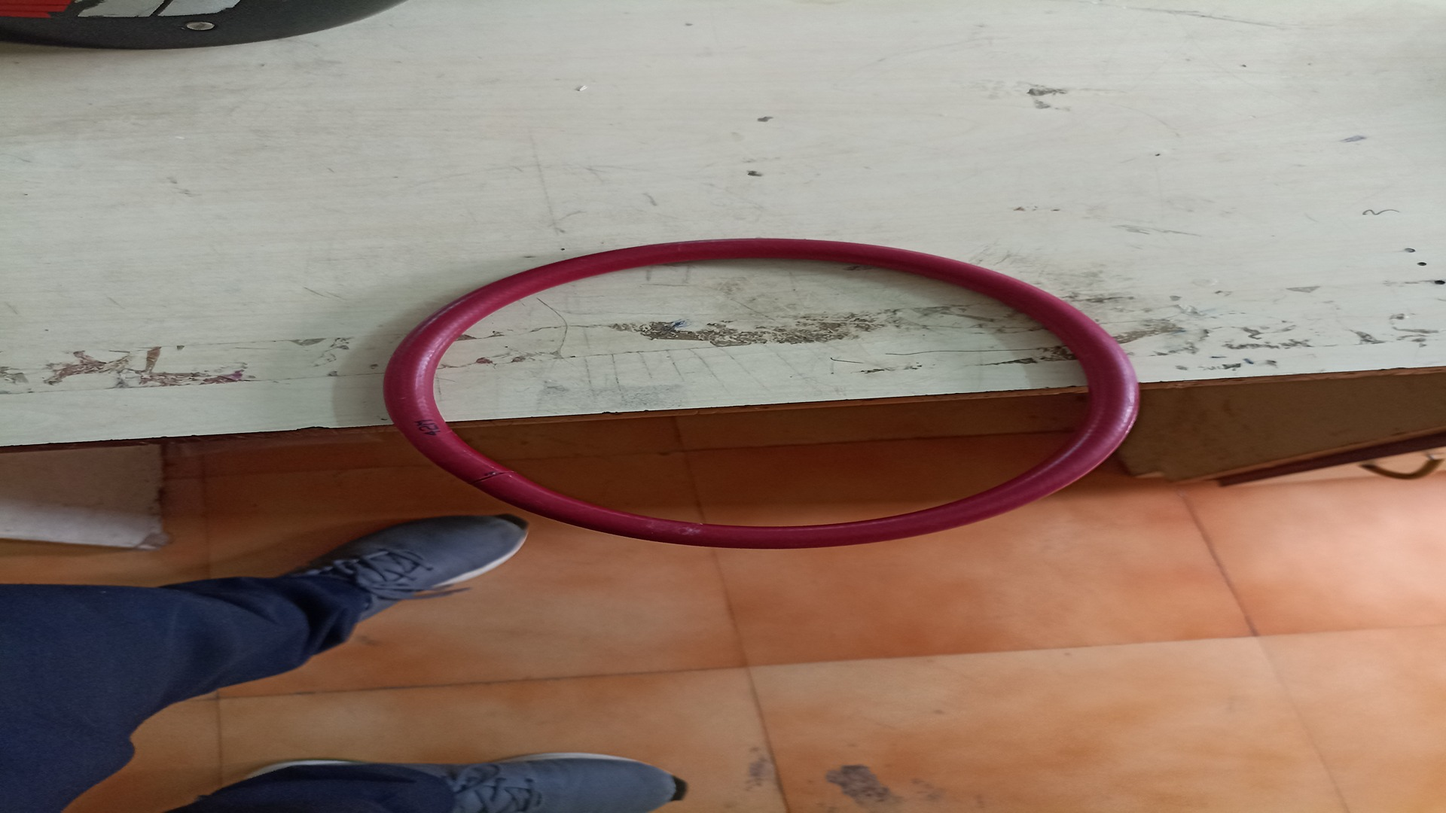Red ring: (379, 239, 1136, 550)
